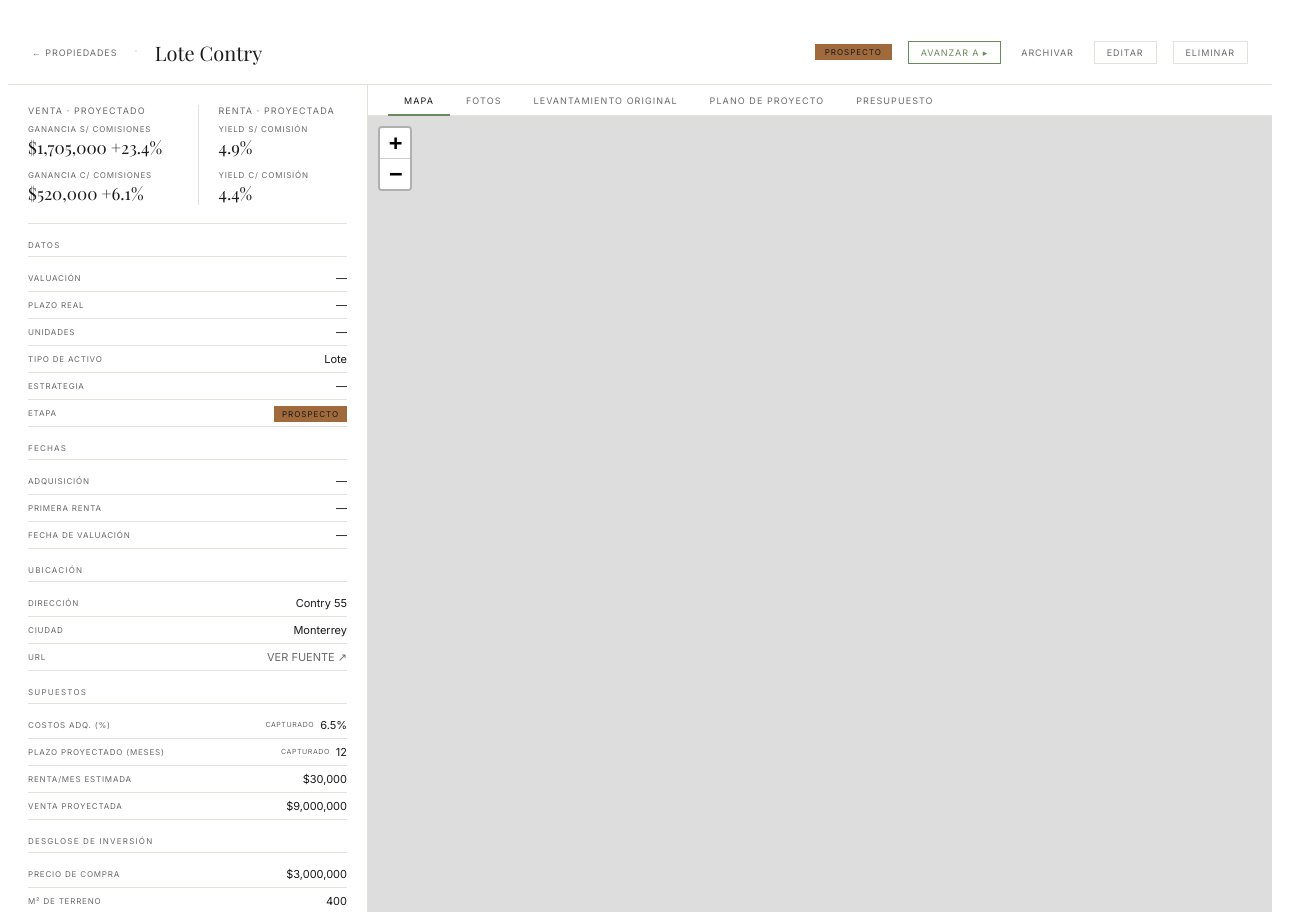
Test case: PropertyDetailPage › FOTOS ofrece GALERÍA y RENDERS, y RENDERS no es la tira de fotos
Check: the text "DATOS" is shown, box [28,228,347,256]
Click the button "FOTOS" at (484, 100), box [450,85,518,116]
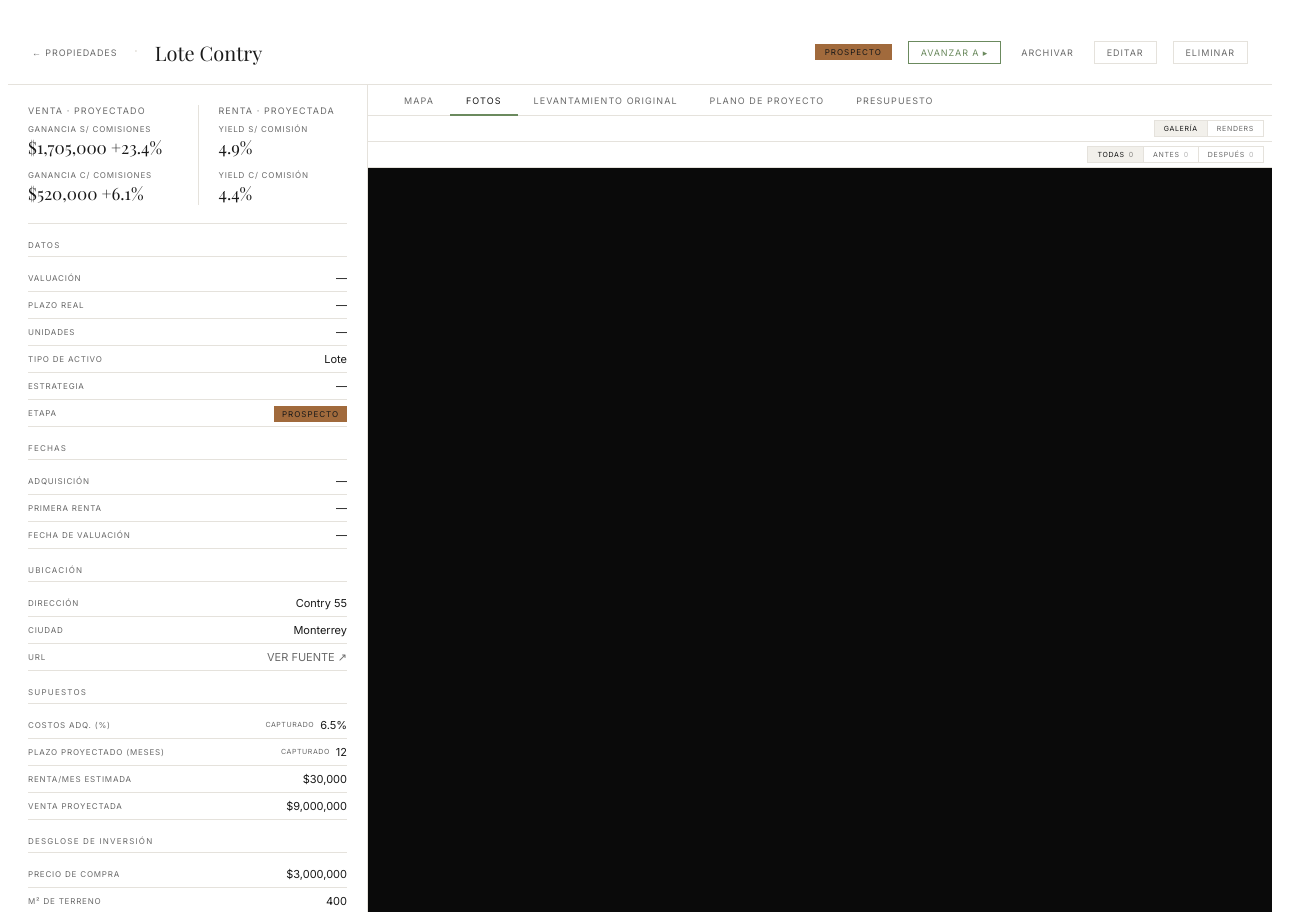
Check: the button "GALERÍA" is shown, box [1154,120,1208,137]
Check: the button "RENDERS" is shown
Click the button "RENDERS" at (1235, 128), box [1207,120,1264,137]
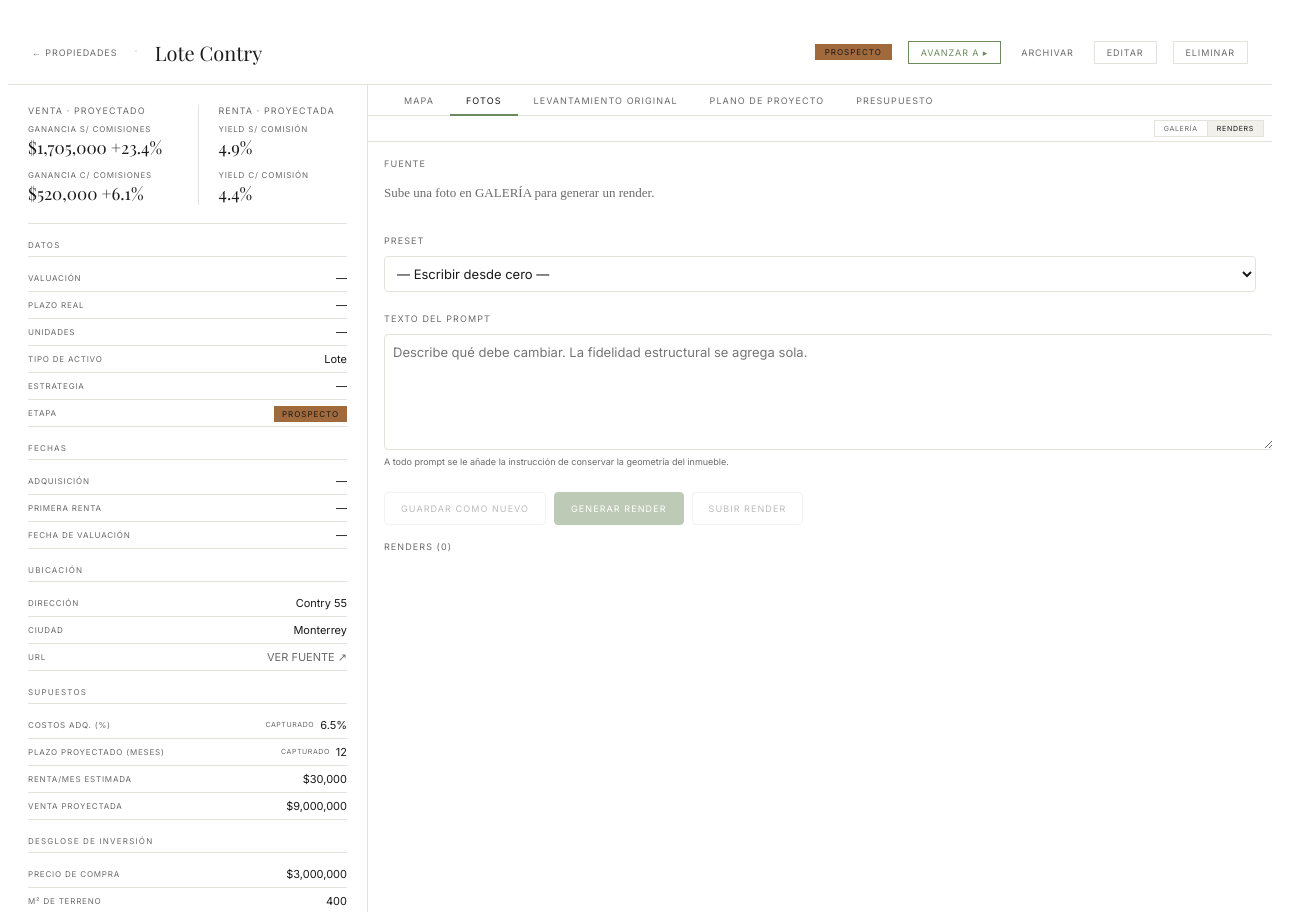
Check: the dropdown labelled "Preset" is shown, box [384,256,1256,292]
Check: the text box labelled "Texto del prompt" is shown, box [384,334,1272,450]
